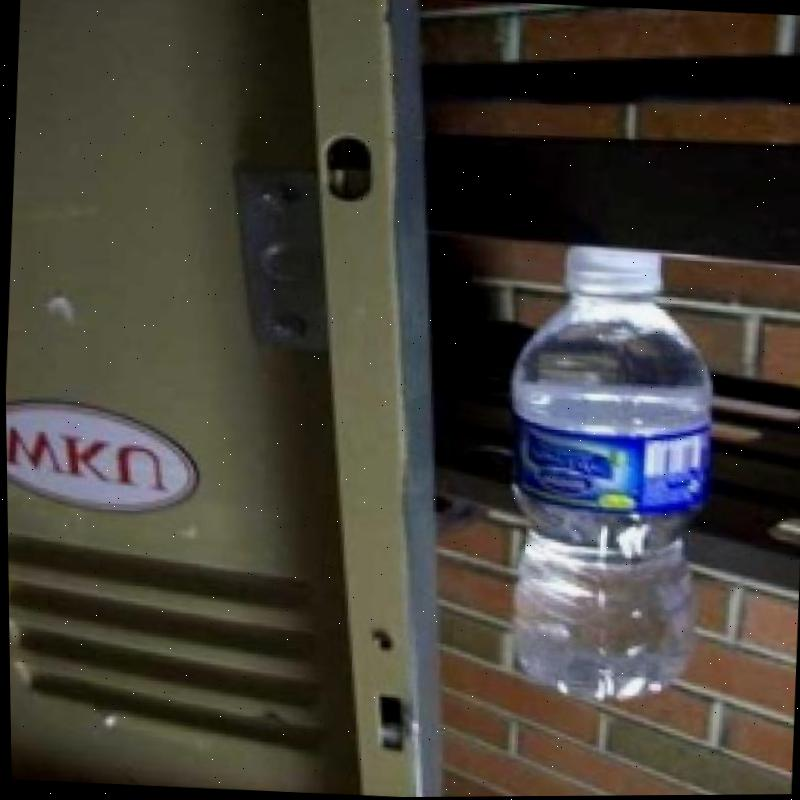botella: (490, 234, 720, 705)
